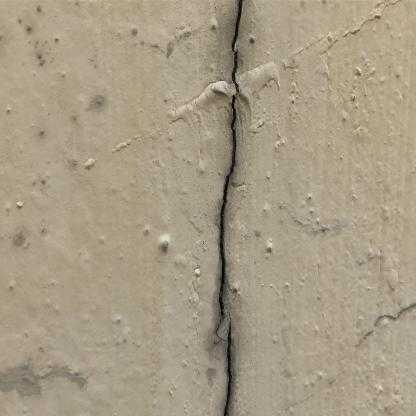crack: (213, 4, 245, 412)
